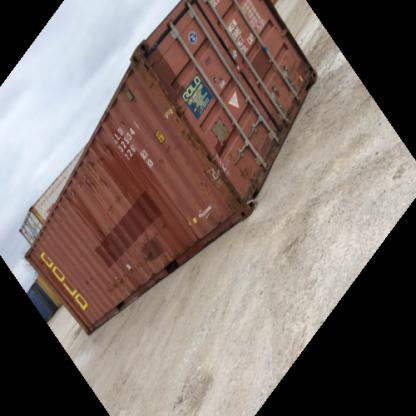Damage: (183, 123, 247, 204), (139, 53, 183, 123), (75, 145, 129, 191), (96, 257, 146, 291), (87, 214, 118, 248), (279, 54, 311, 86), (54, 187, 86, 212), (203, 68, 233, 88)
